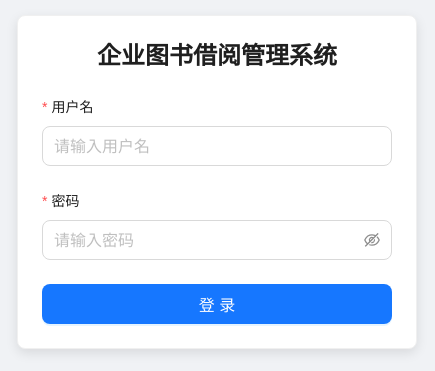
Scenario: Login › shows validation messages for empty fields
This screenshot has width=435, height=371.
Click the button "登 录" at (217, 304), box [42,284,392,324]
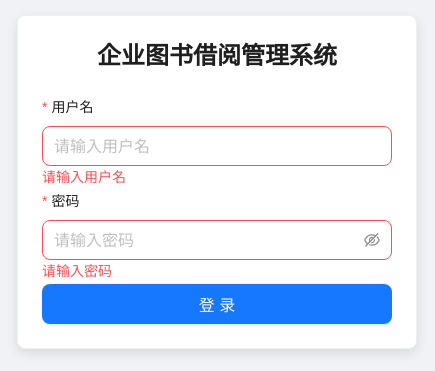
Expected: the text "请输入用户名" is shown, [42,168,126,185]
Expected: the text "请输入密码" is shown, [42,262,112,279]
